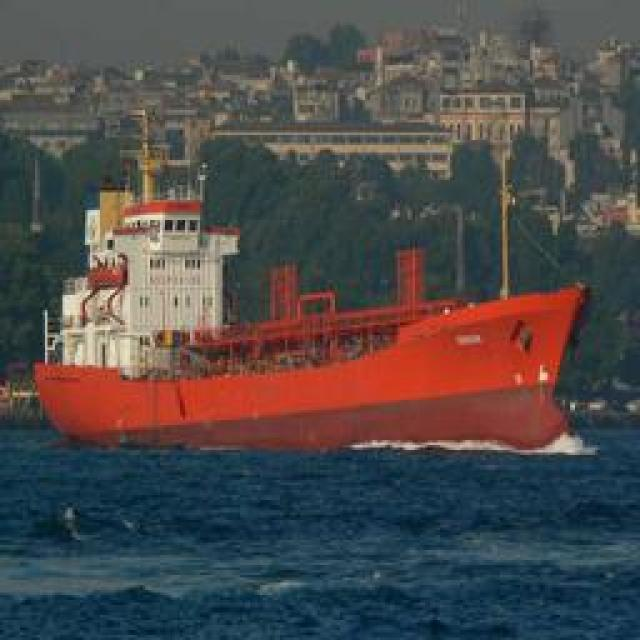ship2: (34, 107, 587, 455)
